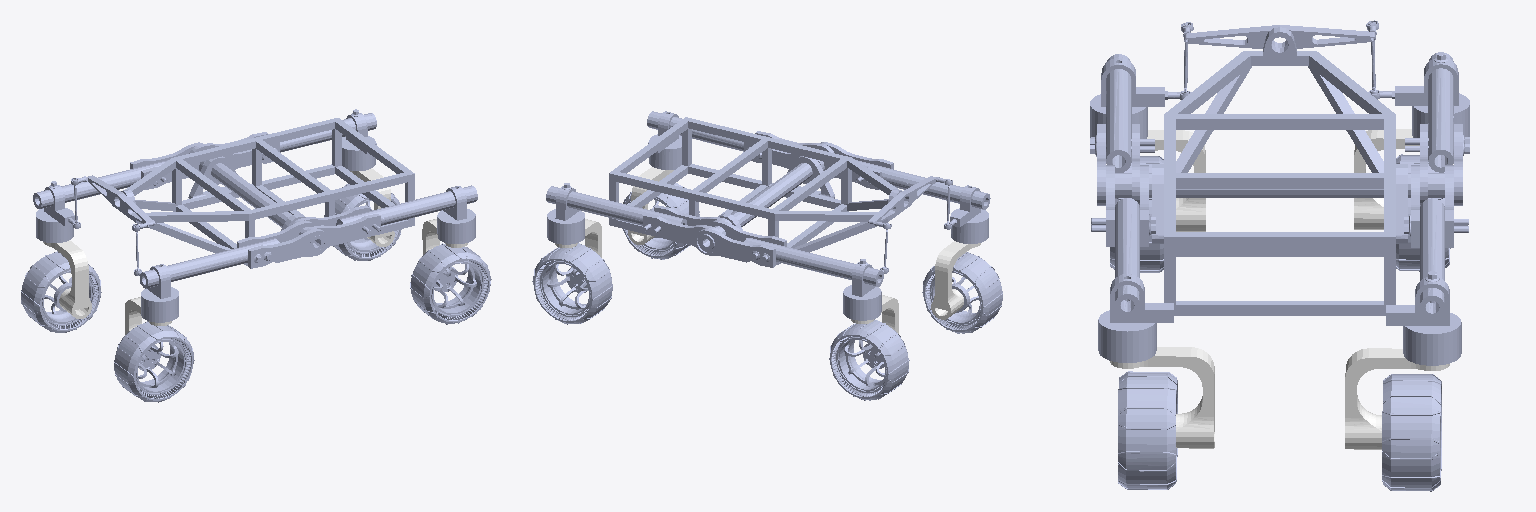
URDF robot description (roverv6_2):
<?xml version="1.0" encoding="utf-8"?>
<!-- This URDF was automatically created by SolidWorks to URDF Exporter! Originally created by [author] ([email redacted]) 
     Commit Version: 1.6.0-4-g7f85cfe  Build Version: 1.6.7995.38578
     For more information, please see http://wiki.ros.org/sw_urdf_exporter -->
<robot
  name="roverv6_2">
  <link name="base_footprint"/>
  <link
    name="base_link">
    <inertial>
      <origin
        xyz="0.0532120795670072 -0.374003969694227 0.252061126858735"
        rpy="0 0 0" />
      <mass
        value="8.14405628857651" />
      <inertia
        ixx="0.106231881778293"
        ixy="4.51975186152462E-07"
        ixz="0.00640483465560188"
        iyy="0.167224518849886"
        iyz="-6.2093968636767E-06"
        izz="0.250106019697396" />
    </inertial>
    <visual>
      <origin
        xyz="0 0 0"
        rpy="0 0 0" />
      <geometry>
        <mesh
          filename="package://roverv6/meshes/base.STL" />
      </geometry>
      <material
        name="">
        <color
          rgba="0.792156862745098 0.819607843137255 0.933333333333333 1" />
      </material>
    </visual>
    <collision>
      <origin
        xyz="0 0 0"
        rpy="0 0 0" />
      <geometry>
        <mesh
          filename="package://roverv6/meshes/base.STL" />
      </geometry>
    </collision>
  </link>
  <joint name="base_link_joint" type="fixed">
	  <parent link="base_footprint"/>
	  <child link="base_link"/>
	</joint>
  <link
    name="link1">
    <inertial>
      <origin
        xyz="-4.0815715751652E-08 0.0978499673015693 -0.0743958681037937"
        rpy="0 0 0" />
      <mass
        value="0.498179095837696" />
      <inertia
        ixx="0.00407474322597775"
        ixy="-1.34392146919513E-09"
        ixz="-2.58091705611837E-10"
        iyy="0.00186808359358825"
        iyz="-0.00142064061419686"
        izz="0.00241423152562424" />
    </inertial>
    <visual>
      <origin
        xyz="0 0 0"
        rpy="0 0 0" />
      <geometry>
        <mesh
          filename="package://roverv6/meshes/link1.STL" />
      </geometry>
      <material
        name="">
        <color
          rgba="1 1 1 1" />
      </material>
    </visual>
    <collision>
      <origin
        xyz="0 0 0"
        rpy="0 0 0" />
      <geometry>
        <mesh
          filename="package://roverv6/meshes/link1.STL" />
      </geometry>
      
    </collision>
  </link>
  <joint
    name="joint1"
    type="revolute">
    <origin
      xyz="-0.397140001633047 -0.652332061686518 -0.00399252714157018"
      rpy="1.57071605221325 -0.0100525390183488 0.00798546788536873" />
    <parent
      link="base_link" />
    <child
      link="link1" />
    <axis
      xyz="0 1 0" />
    <limit
      lower="-3.14"
      upper="3.14"
      effort="300"
      velocity="3" />
  </joint>
  <link
    name="link11">
    <inertial>
      <origin
        xyz="0.006533411313143 0.00458592216589021 -0.039098794497154"
        rpy="0 0 0" />
      <mass
        value="0.89146941998421" />
      <inertia
        ixx="0.00350946883972338"
        ixy="0"
        ixz="0"
        iyy="0.00351009412241423"
        iyz="0"
        izz="0.00597899558232848" />
    </inertial>
    <visual>
      <origin
        xyz="0 0 0"
        rpy="0 0 0" />
      <geometry>
        <mesh
          filename="package://roverv6/meshes/link11.STL" />
      </geometry>
      <material
        name="">
        <color
          rgba="0.792156862745098 0.819607843137255 0.933333333333333 1" />
      </material>
    </visual>
    <collision>
      <origin
        xyz="0 0 0"
        rpy="0 0 0" />
      <geometry>
        <mesh
          filename="package://roverv6/meshes/link11.STL" />
      </geometry>
    </collision>
    <gazebo>
        <surface>
          <friction>
            <ode>
              <selfCollide>false</selfCollide>
              <mu1>2</mu1>
              <mu2>2</mu2>
            </ode>
          </friction>
        </surface>
      </gazebo>
  </link>
  <joint
    name="joint11"
    type="revolute">
    <origin
      xyz="0 0.01 0"
      rpy="5.05194857656171E-05 -0.00383631516521105 -2.17095997613858" />
    <parent
      link="link1" />
    <child
      link="link11" />
    <axis
      xyz="0 0 -1" />
    <limit
      lower="-3.14"
      upper="3.14"
      effort="300"
      velocity="3" />
  </joint>
  <link
    name="link2">
    <inertial>
      <origin
        xyz="-4.05129637615076E-08 0.0982285067714575 -0.0743958682713068"
        rpy="0 0 0" />
      <mass
        value="0.498179091805055" />
      <inertia
        ixx="0.00407474320594312"
        ixy="-1.3373585711491E-09"
        ixz="-2.57330303949971E-10"
        iyy="0.00186808358864903"
        iyz="-0.00142064061815577"
        izz="0.0024142314989147" />
    </inertial>
    <visual>
      <origin
        xyz="0 0 0"
        rpy="0 0 0" />
      <geometry>
        <mesh
          filename="package://roverv6/meshes/link2.STL" />
      </geometry>
      <material
        name="">
        <color
          rgba="1 1 1 1" />
      </material>
    </visual>
    <collision>
      <origin
        xyz="0 0 0"
        rpy="0 0 0" />
      <geometry>
        <mesh
          filename="package://roverv6/meshes/link2.STL" />
      </geometry>
      
    </collision>
  </link>
  <joint
    name="joint2"
    type="revolute">
    <origin
      xyz="-0.3949982138244 -0.096832061686517 -0.00119783636687578"
      rpy="1.5707034511472 0.00303107897986546 3.11096107298273" />
    <parent
      link="base_link" />
    <child
      link="link2" />
    <axis
      xyz="0 1 0" />
    <limit
      lower="-3.14"
      upper="3.14"
      effort="300"
      velocity="3" />
  </joint>
  <link
    name="link22">
    <inertial>
      <origin
        xyz="0.00531657387050027 -0.00544224312171682 -0.0390936198047614"
        rpy="0 0 0" />
      <mass
        value="0.891469420630642" />
      <inertia
        ixx="0.00350946884143914"
        ixy="0"
        ixz="0"
        iyy="0.00351009412440556"
        iyz="0"
        izz="0.00597899558542636" />
    </inertial>
    <visual>
      <origin
        xyz="0 0 0"
        rpy="0 0 0" />
      <geometry>
        <mesh
          filename="package://roverv6/meshes/link22.STL" />
      </geometry>
      <material
        name="">
        <color
          rgba="0.792156862745098 0.819607843137255 0.933333333333333 1" />
      </material>
    </visual>
    <collision>
      <origin
        xyz="0 0 0"
        rpy="0 0 0" />
      <geometry>
        <mesh
          filename="package://roverv6/meshes/link22.STL" />
      </geometry>
    </collision>
      <gazebo>
        <surface>
          <friction>
            <ode>
              <selfCollide>false</selfCollide>
              <mu1>2</mu1>
              <mu2>2</mu2>
            </ode>
          </friction>
        </surface>
      </gazebo>
  </link>
  <joint
    name="joint22"
    type="revolute">
    <origin
      xyz="0 0.01 0"
      rpy="5.05194857639483E-05 -0.00383631516521564 -0.786838682488123" />
    <parent
      link="link2" />
    <child
      link="link22" />
    <axis
      xyz="0 0 1" />
    <limit
      lower="-3.14"
      upper="3.14"
      effort="300"
      velocity="3" />
  </joint>
  <link
    name="link3">
    <inertial>
      <origin
        xyz="-4.06909475003658E-08 0.0978499675373262 -0.0743958682053536"
        rpy="0 0 0" />
      <mass
        value="0.498179094382818" />
      <inertia
        ixx="0.00407474321636083"
        ixy="-1.34114422995637E-09"
        ixz="-2.58170672658836E-10"
        iyy="0.00186808359117778"
        iyz="-0.00142064061689953"
        izz="0.00241423151361537" />
    </inertial>
    <visual>
      <origin
        xyz="0 0 0"
        rpy="0 0 0" />
      <geometry>
        <mesh
          filename="package://roverv6/meshes/link3.STL" />
      </geometry>
      <material
        name="">
        <color
          rgba="1 1 1 1" />
      </material>
    </visual>
    <collision>
      <origin
        xyz="0 0 0"
        rpy="0 0 0" />
      <geometry>
        <mesh
          filename="package://roverv6/meshes/link3.STL" />
      </geometry>
    </collision>
  </link>
  <joint
    name="joint3"
    type="revolute">
    <origin
      xyz="0.502814521756893 -0.637332061686518 0.00505489403488414"
      rpy="1.57102457132241 -0.0100502681901724 -0.0227067716183839" />
    <parent
      link="base_link" />
    <child
      link="link3" />
    <axis
      xyz="0 1 0" />
    <limit
      lower="-3.14"
      upper="3.14"
      effort="300"
      velocity="3" />
  </joint>
  <link
    name="link31">
    <inertial>
      <origin
        xyz="-0.00823963436812794 -0.000454914762532677 -0.0390418655819643"
        rpy="0 0 0" />
      <mass
        value="0.891469420303922" />
      <inertia
        ixx="0.00350946884043217"
        ixy="0"
        ixz="0"
        iyy="0.0035100941229201"
        iyz="0"
        izz="0.00597899558329575" />
    </inertial>
    <visual>
      <origin
        xyz="0 0 0"
        rpy="0 0 0" />
      <geometry>
        <mesh
          filename="package://roverv6/meshes/link31.STL" />
      </geometry>
      <material
        name="">
        <color
          rgba="0.792156862745098 0.819607843137255 0.933333333333333 1" />
      </material>
    </visual>
    <collision>
      <origin
        xyz="0 0 0"
        rpy="0 0 0" />
      <geometry>
        <mesh
          filename="package://roverv6/meshes/link31.STL" />
      </geometry>
      
    </collision>
    <gazebo>
        <surface>
          <friction>
            <ode>
              <selfCollide>false</selfCollide>
              <mu1>2</mu1>
              <mu2>2</mu2>
            </ode>
          </friction>
        </surface>
      </gazebo>
  </link>
  <joint
    name="joint31"
    type="revolute">
    <origin
      xyz="0 0.01 0"
      rpy="5.05194857625571E-05 -0.00383631516521475 1.51330341179766" />
    <parent
      link="link3" />
    <child
      link="link31" />
    <axis
      xyz="0 0 -1" />
    <limit
      lower="-3.14"
      upper="3.14"
      effort="300"
      velocity="3" />
  </joint>
  <link
    name="link4">
    <inertial>
      <origin
        xyz="-4.06230458160906E-08 0.0982285065661503 -0.0743958681863934"
        rpy="0 0 0" />
      <mass
        value="0.49817909304652" />
      <inertia
        ixx="0.0040747432141479"
        ixy="-1.33970704814334E-09"
        ixz="-2.57366707826846E-10"
        iyy="0.00186808359052598"
        iyz="-0.00142064061602138"
        izz="0.00241423150946813" />
    </inertial>
    <visual>
      <origin
        xyz="0 0 0"
        rpy="0 0 0" />
      <geometry>
        <mesh
          filename="package://roverv6/meshes/link4.STL" />
      </geometry>
      <material
        name="">
        <color
          rgba="1 1 1 1" />
      </material>
    </visual>
    <collision>
      <origin
        xyz="0 0 0"
        rpy="0 0 0" />
      <geometry>
        <mesh
          filename="package://roverv6/meshes/link4.STL" />
      </geometry>
      
    </collision>
  </link>
  <joint
    name="joint4"
    type="revolute">
    <origin
      xyz="0.504997647949237 -0.111832061686519 0.00153141084371881"
      rpy="1.57073901985094 0.00303196002049882 3.12269391856691" />
    <parent
      link="base_link" />
    <child
      link="link4" />
    <axis
      xyz="0 1 0" />
    <limit
      lower="-3.14"
      upper="3.14"
      effort="300"
      velocity="3" />
  </joint>
  <link
    name="link41">
    <inertial>
      <origin
        xyz="-0.00528531658007064 -0.00575886757183902 -0.0390529313975927"
        rpy="0 0 0" />
      <mass
        value="0.891469420642809" />
      <inertia
        ixx="0.00350946884162752"
        ixy="0"
        ixz="0"
        iyy="0.00351009412494827"
        iyz="0"
        izz="0.00597899558609281" />
    </inertial>
    <visual>
      <origin
        xyz="0 0 0"
        rpy="0 0 0" />
      <geometry>
        <mesh
          filename="package://roverv6/meshes/link41.STL" />
      </geometry>
      <material
        name="">
        <color
          rgba="0.792156862745098 0.819607843137255 0.933333333333333 1" />
      </material>
    </visual>
    <collision>
      <origin
        xyz="0 0 0"
        rpy="0 0 0" />
      <geometry>
        <mesh
          filename="package://roverv6/meshes/link41.STL" />
      </geometry>
      
    </collision>
    <gazebo>
        <surface>
          <friction>
            <ode>
              <selfCollide>false</selfCollide>
              <mu1>2</mu1>
              <mu2>2</mu2>
            </ode>
          </friction>
        </surface>
      </gazebo>
  </link>
  <joint
    name="joint41"
    type="revolute">
    <origin
      xyz="0 0.01 0"
      rpy="5.0519E-05 -0.0038363 0.72713" />
    <parent
      link="link4" />
    <child
      link="link41" />
    <axis
      xyz="0 0 1" />
    <limit
      lower="-3.14"
      upper="3.14"
      effort="300"
      velocity="3" />
    </joint>
  <transmission name="1_wheel_trans">
      <type>transmission_interface/SimpleTransmission</type>
      <joint name="joint11">
	<hardwareInterface>hardware_interface/VelocityJointInterface</hardwareInterface>
      </joint>
	<actuator name="1_wheel_motor">
	  <hardwareInterface>hardware_interface/VelocityJointInterface</hardwareInterface>
	  <mechanicalReduction>1</mechanicalReduction>
        </actuator>
    </transmission>


    <transmission name="2_wheel_trans">
      <type>transmission_interface/SimpleTransmission</type>
      <joint name="joint22">
	<hardwareInterface>hardware_interface/VelocityJointInterface</hardwareInterface>
      </joint>
	<actuator name="2_wheel_motor">
	  <hardwareInterface>hardware_interface/VelocityJointInterface</hardwareInterface>
	  <mechanicalReduction>1</mechanicalReduction>
        </actuator>
    </transmission>


    <transmission name="3_wheel_trans">
      <type>transmission_interface/SimpleTransmission</type>
      <joint name="joint31">
	<hardwareInterface>hardware_interface/VelocityJointInterface</hardwareInterface>
      </joint>
	<actuator name="3_wheel_motor">
	  <hardwareInterface>hardware_interface/VelocityJointInterface</hardwareInterface>
	  <mechanicalReduction>1</mechanicalReduction>
        </actuator>
    </transmission>


    <transmission name="4_wheel_trans">
      <type>transmission_interface/SimpleTransmission</type>
      <joint name="joint41">
	<hardwareInterface>hardware_interface/VelocityJointInterface</hardwareInterface>
      </joint>
	<actuator name="4_wheel_motor">
	  <hardwareInterface>hardware_interface/VelocityJointInterface</hardwareInterface>
	  <mechanicalReduction>1</mechanicalReduction>
        </actuator>
    </transmission>








    <transmission name="1_steering_trans">
      <type>transmission_interface/SimpleTransmission</type>
      <joint name="joint1">
		<hardwareInterface>hardware_interface/PositionJointInterface</hardwareInterface>
      </joint>
	  <actuator name="1_steering_motor">
		<hardwareInterface>hardware_interface/PositionJointInterface</hardwareInterface>
		<mechanicalReduction>30</mechanicalReduction>
      </actuator>
	</transmission>

  <transmission name="2_steering_trans">
      <type>transmission_interface/SimpleTransmission</type>
      <joint name="joint2">
		<hardwareInterface>hardware_interface/PositionJointInterface</hardwareInterface>
      </joint>
	  <actuator name="2_steering_motor">
		<hardwareInterface>hardware_interface/PositionJointInterface</hardwareInterface>
		<mechanicalReduction>30</mechanicalReduction>
      </actuator>
	</transmission>

  <transmission name="3_steering_trans">
      <type>transmission_interface/SimpleTransmission</type>
      <joint name="joint3">
		<hardwareInterface>hardware_interface/PositionJointInterface</hardwareInterface>
      </joint>
	  <actuator name="3_steering_motor">
		<hardwareInterface>hardware_interface/PositionJointInterface</hardwareInterface>
		<mechanicalReduction>30</mechanicalReduction>
      </actuator>
	</transmission>

  <transmission name="4_steering_trans">
      <type>transmission_interface/SimpleTransmission</type>
      <joint name="joint4">
		<hardwareInterface>hardware_interface/PositionJointInterface</hardwareInterface>
      </joint>
	  <actuator name="4_steering_motor">
		<hardwareInterface>hardware_interface/PositionJointInterface</hardwareInterface>
		<mechanicalReduction>30</mechanicalReduction>
      </actuator>
	</transmission>

  <gazebo>
    <plugin name="gazebo_ros_control" filename="libgazebo_ros_control.so">
    </plugin>
  </gazebo>
  
</robot>

--- Facts derived from the render (not from the file) ---
Views: 3 orthographic renders of the robot side by side, from view 1: azimuth 30°, elevation 25°; view 2: azimuth 150°, elevation 25°; view 3: azimuth 270°, elevation 25°.
Robot: roverv6_2 — 10 links, 9 joints (8 revolute, 1 fixed); root link base_footprint; default pose: all joints at 0.
Visible links, largest first — view 1: base_link, link11, link31, link22, link2, link41, link4, link1, link3; view 2: base_link, link22, link41, link11, link1, link31, link3, link2, link4; view 3: base_link, link31, link41, link3, link4, link1, link2, link11, link22.
Link boxes in pixels (x1=…): base_link: x1=33, y1=109, x2=477, y2=322; link11: x1=114, y1=321, x2=194, y2=402; link31: x1=410, y1=243, x2=491, y2=324; link22: x1=21, y1=251, x2=101, y2=332; link2: x1=43, y1=240, x2=91, y2=318; link41: x1=324, y1=184, x2=401, y2=260; link4: x1=350, y1=168, x2=394, y2=246; link1: x1=125, y1=297, x2=171, y2=334; link3: x1=422, y1=219, x2=467, y2=254; base_link: x1=546, y1=111, x2=990, y2=320; link22: x1=829, y1=319, x2=909, y2=400; link41: x1=532, y1=243, x2=612, y2=324; link11: x1=922, y1=252, x2=1002, y2=333; link1: x1=931, y1=241, x2=980, y2=319; link31: x1=623, y1=180, x2=699, y2=259; link3: x1=628, y1=167, x2=673, y2=244; link2: x1=851, y1=295, x2=898, y2=333; link4: x1=555, y1=219, x2=601, y2=257; base_link: x1=1090, y1=20, x2=1469, y2=365; link31: x1=1118, y1=371, x2=1177, y2=489; link41: x1=1382, y1=374, x2=1441, y2=491; link3: x1=1110, y1=347, x2=1214, y2=448; link4: x1=1345, y1=348, x2=1449, y2=449; link1: x1=1147, y1=130, x2=1205, y2=231; link2: x1=1354, y1=129, x2=1419, y2=229; link11: x1=1110, y1=156, x2=1163, y2=272; link22: x1=1396, y1=154, x2=1450, y2=271.
Size in the robot's own frame: 1.11 by 0.6555 by 0.4812 metres.
9 mesh visuals loaded from 9 distinct referenced files (9 binary STL).